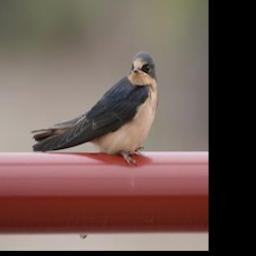Swallow: (29, 46, 159, 172)
